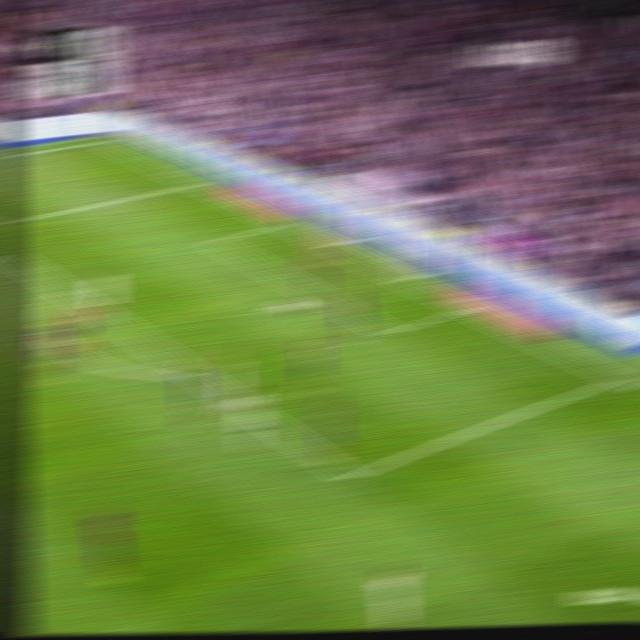bigarea_bottom_inner: (338, 465, 362, 488)
bigarea_bottom_outter: (606, 368, 629, 385)
bigarea_top_outter: (184, 175, 205, 188)
corner: (91, 133, 116, 146)
smallarea_top_inner: (204, 234, 225, 248)
top_arc_area_intersection: (52, 279, 76, 298)
